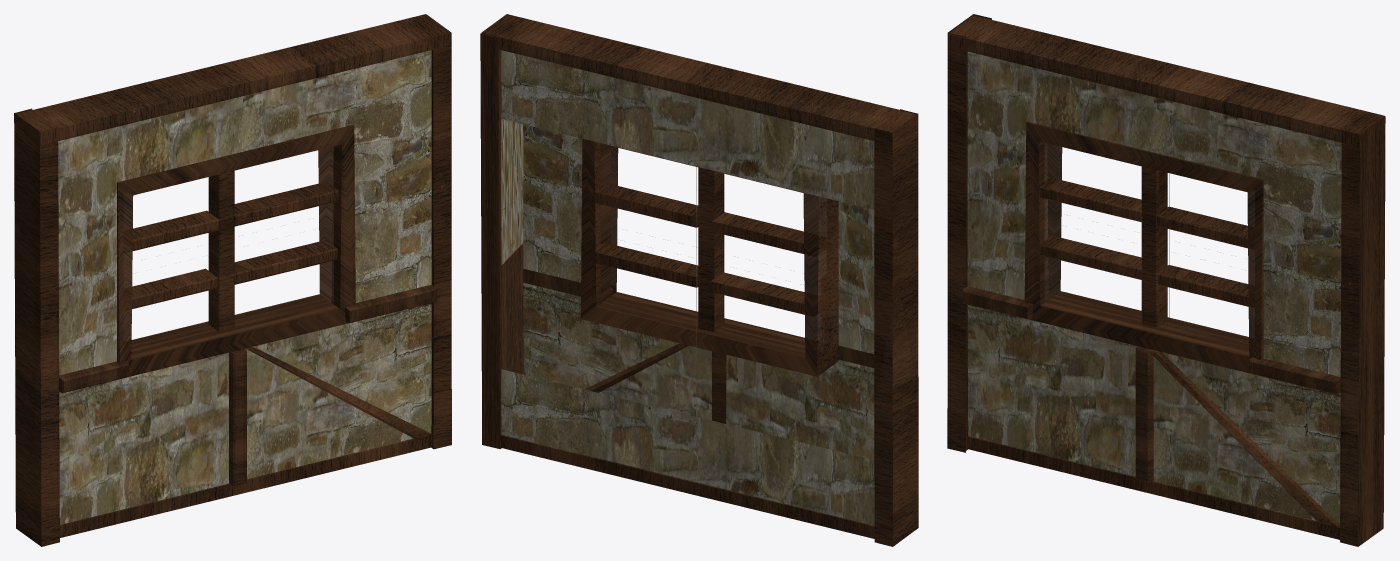
File: BuildingWindow3.fbx
3 views of the same model, side by side, from view 1: azimuth 30°, elevation 25°; view 2: azimuth 150°, elevation 25°; view 3: azimuth 330°, elevation 25° (orthographic).
Visible parts, largest first — view 1: BuildingWindowTile3; view 2: BuildingWindowTile3; view 3: BuildingWindowTile3.
Boxes of the visible parts, bbox=[...] form: BuildingWindowTile3: bbox=[14, 14, 451, 546]; BuildingWindowTile3: bbox=[480, 14, 918, 546]; BuildingWindowTile3: bbox=[947, 14, 1385, 546].
Size of the model in its own units: 6.5 by 6.26 by 0.8297.
2 materials, 2 textured.
